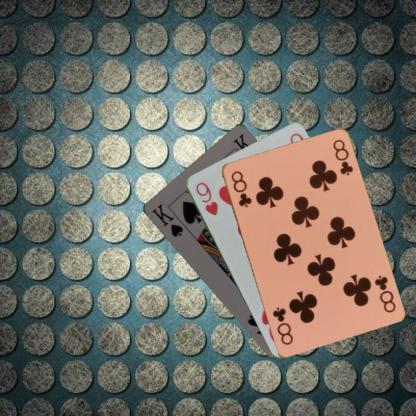8c: (228, 168, 253, 209), (372, 272, 396, 314)
9h: (192, 179, 218, 217)
Ks: (149, 201, 184, 239)
